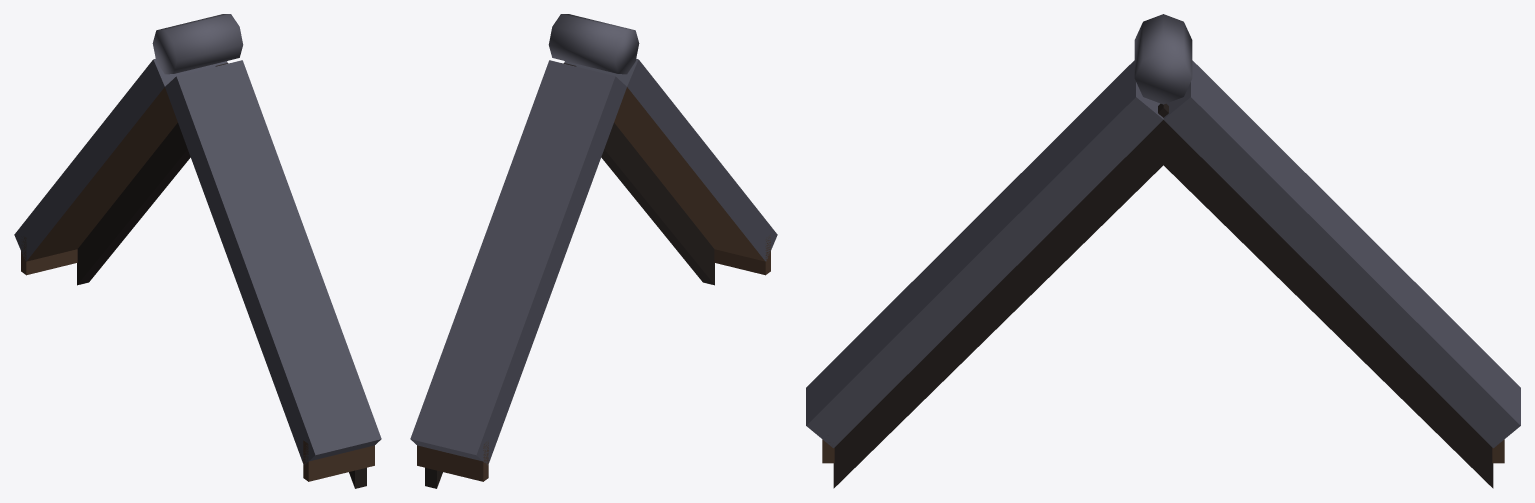
Rendered from kit_timber_slate_w1_end.glb.
The picture shows the model from 3 angles, left to right: view 1: azimuth 30°, elevation 25°; view 2: azimuth 150°, elevation 25°; view 3: azimuth 270°, elevation 25°; orthographic projection. The views are drawn at different scales.
Parts seen in each view (by area): view 1: kit_timber_slate_w1_end; view 2: kit_timber_slate_w1_end; view 3: kit_timber_slate_w1_end.
Boxes of the visible parts, left/top/right/bottom form: kit_timber_slate_w1_end: left=14, top=14, right=381, bottom=488; kit_timber_slate_w1_end: left=410, top=14, right=777, bottom=488; kit_timber_slate_w1_end: left=806, top=14, right=1520, bottom=488.
Size of the model in its own units: 0.22 by 1.17 by 1.73.
